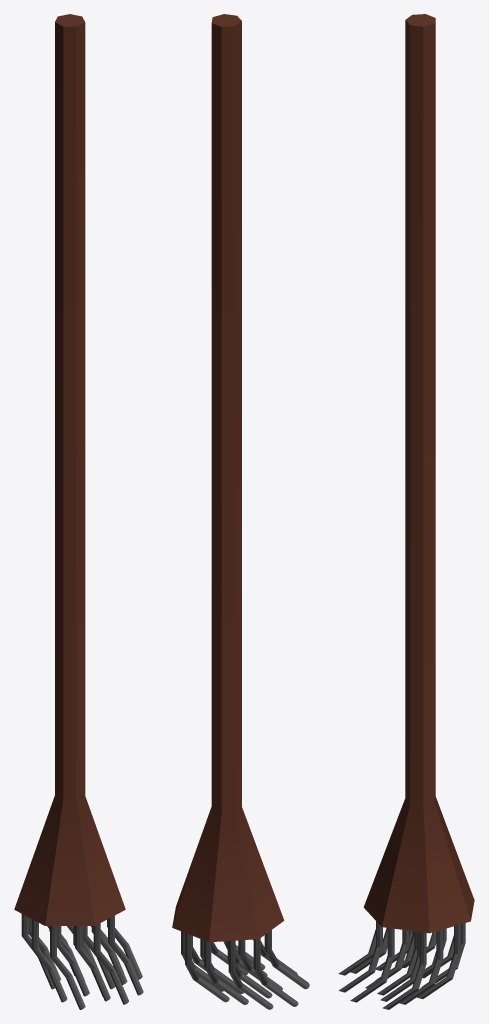
Rendered from FroutchFroutch.fbx.
3 renders of one model, left to right at view 1: azimuth 90°, elevation 25°; view 2: azimuth 150°, elevation 25°; view 3: azimuth 330°, elevation 25°, orthographic.
Visible parts, largest first — view 1: pCylinder39; view 2: pCylinder39; view 3: pCylinder39.
Part boxes in pixels (x1=…): pCylinder39: x1=14, y1=14, x2=143, y2=1009; pCylinder39: x1=172, y1=14, x2=309, y2=1009; pCylinder39: x1=338, y1=14, x2=474, y2=1009.
Bounding box in the file's own units: 0.9621 × 7.77 × 0.9496.
